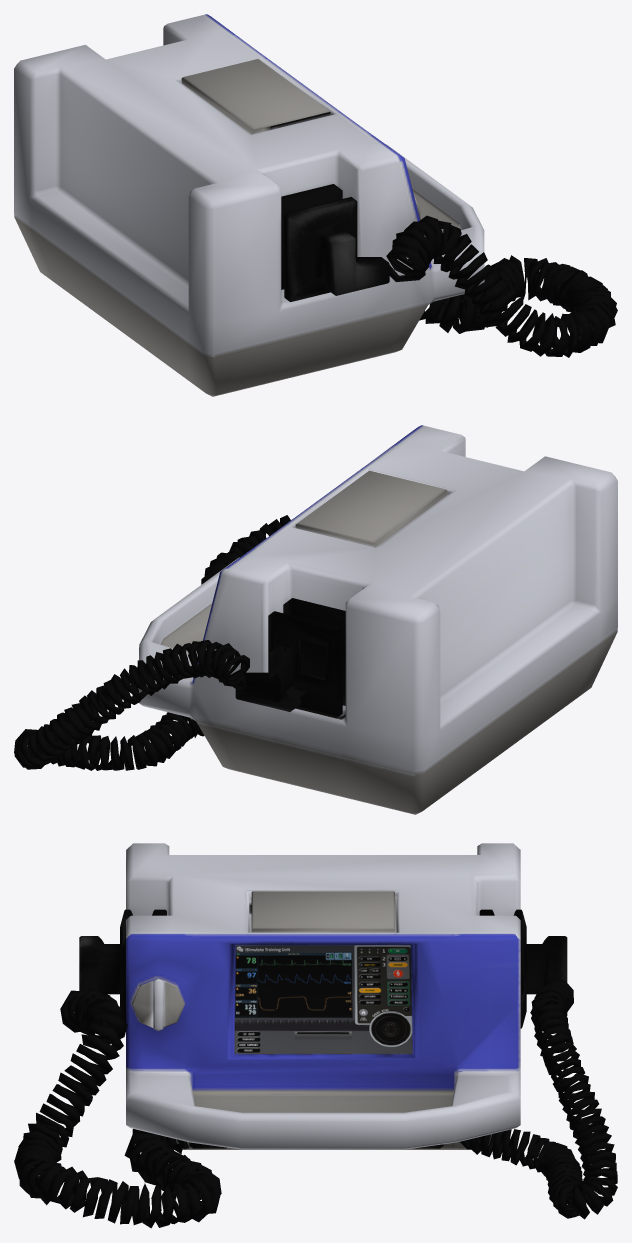
The model's file is defib.glb.
The picture shows the model from 3 angles, top to bottom: view 1: azimuth 30°, elevation 25°; view 2: azimuth 150°, elevation 25°; view 3: azimuth 270°, elevation 25°; orthographic projection. The views are drawn at different scales.
Visible parts, largest first — view 1: Plane_0, Circle_3, Plane.002_1; view 2: Plane_0, Circle.001_5, Plane.001_2, Circle_3; view 3: Plane_0, Circle_3, Circle.001_5, Plane.002_1, Plane.001_2.
Part boxes in pixels (left/top/right/bottom): Plane_0: left=14, top=14, right=484, bottom=396; Circle_3: left=386, top=215, right=617, bottom=357; Plane.002_1: left=281, top=184, right=391, bottom=301; Plane_0: left=138, top=425, right=617, bottom=814; Circle.001_5: left=14, top=640, right=249, bottom=770; Plane.001_2: left=233, top=598, right=345, bottom=718; Circle_3: left=201, top=515, right=290, bottom=584; Plane_0: left=126, top=843, right=520, bottom=1149; Circle_3: left=14, top=988, right=221, bottom=1228; Circle.001_5: left=459, top=978, right=617, bottom=1219; Plane.002_1: left=79, top=909, right=166, bottom=1022; Plane.001_2: left=479, top=909, right=567, bottom=1028.
Bounding box in the file's own units: 0.3148 × 0.163 × 0.42.
Materials: 6 (5 with a texture image).
